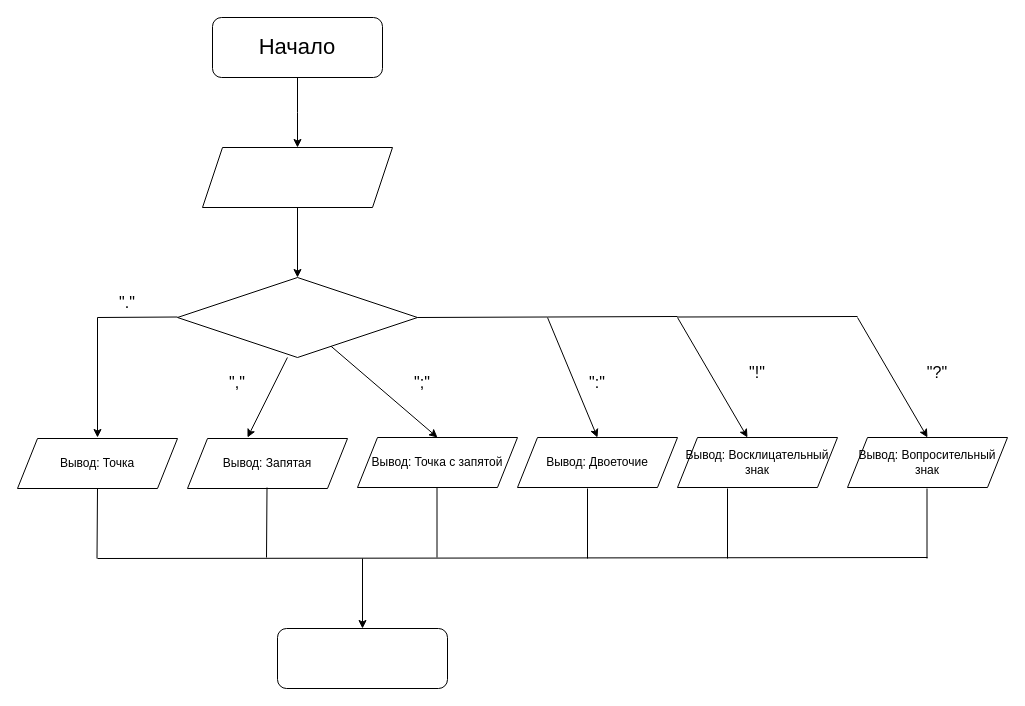
The diagram is 1025 pixels wide and 706 high, and some of its shapes have lost their labels. The centre of each missing label's shape, as x and y in pixels:
Ввод символа ch: (297,177)
Значение ch?: (297,317)
Конец: (362,658)
